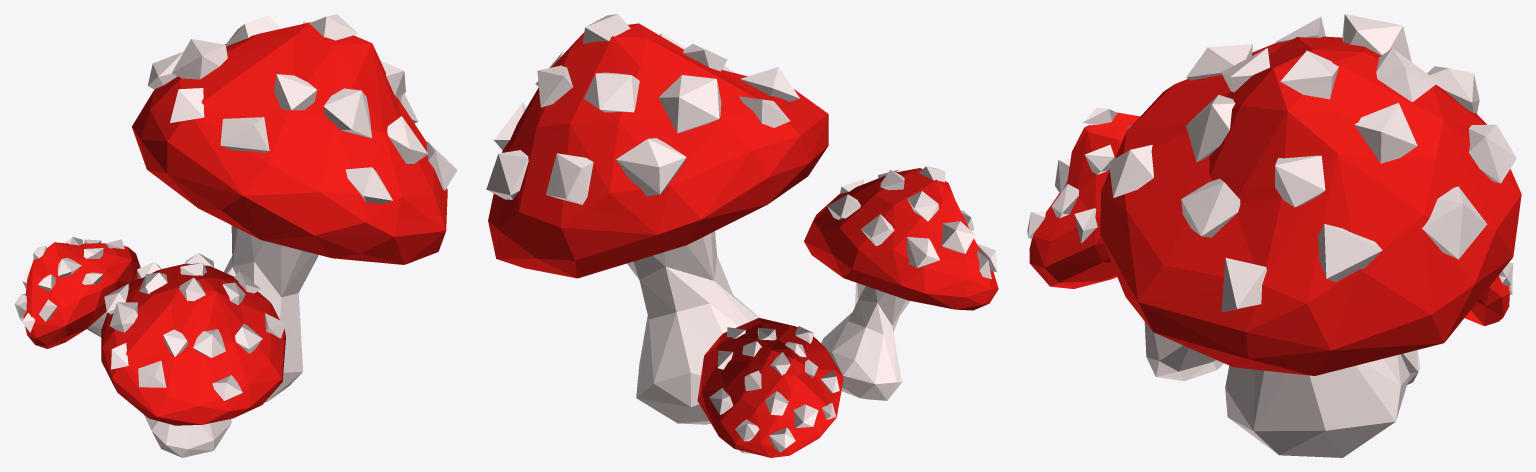
File: MoGu_2.fbx
3 views of the same model, side by side, from view 1: azimuth 30°, elevation 25°; view 2: azimuth 150°, elevation 25°; view 3: azimuth 270°, elevation 25° (orthographic). The views are drawn at different scales.
Visible parts, largest first — view 1: polySurface6202_blinn1.001_0; view 2: polySurface6202_blinn1.001_0; view 3: polySurface6202_blinn1.001_0.
Boxes of the visible parts, x1,y1,x2,y2 form: polySurface6202_blinn1.001_0: [14, 14, 457, 457]; polySurface6202_blinn1.001_0: [486, 14, 998, 457]; polySurface6202_blinn1.001_0: [1027, 14, 1521, 457].
Bounding box in the file's own units: 18.66 × 16.51 × 16.59.
Materials: 1 (1 with a texture image).
